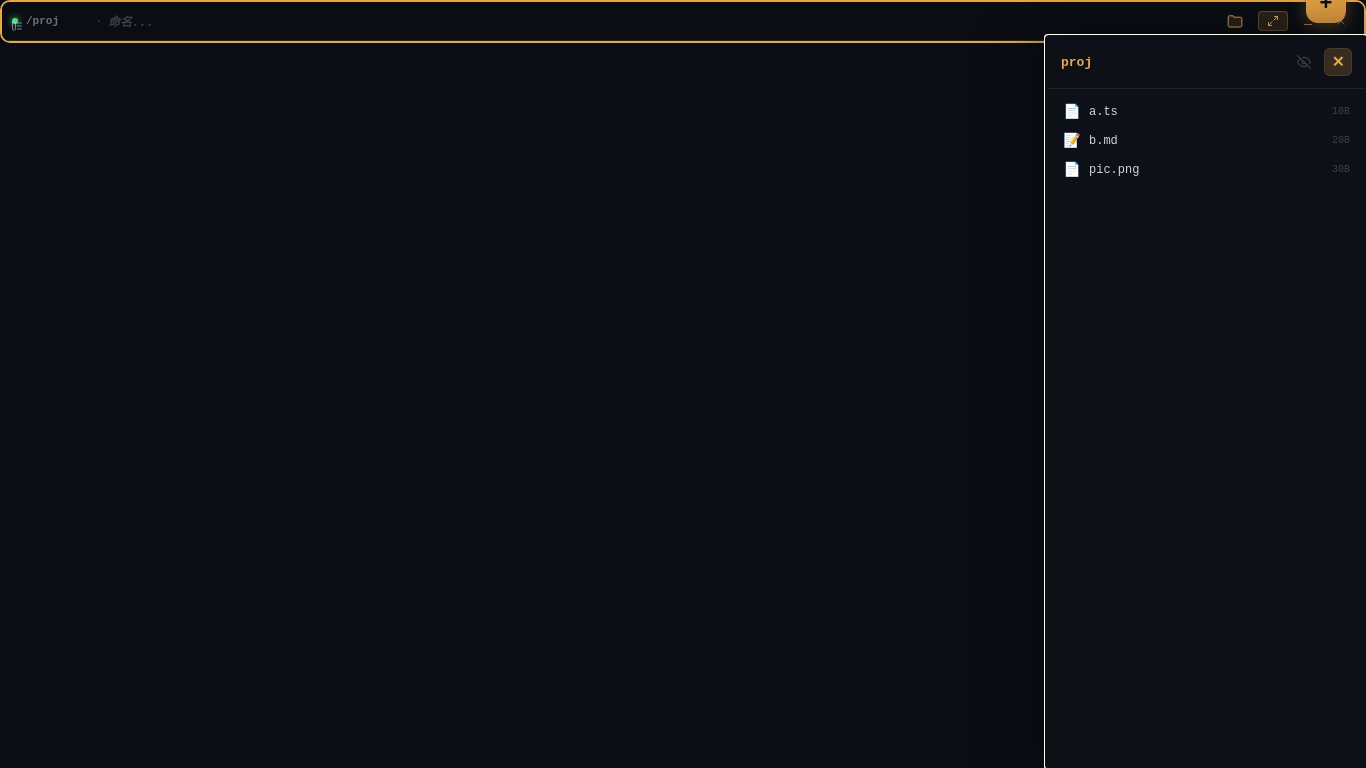
M6 批B tab 式文件视图 live › ⑦ 终端 tab 激活 → 内容区真洞 div[data-term-id]
Click the element showing "📄 a.ts 10B".
click(1072, 112)  # box [1063,104,1350,120]
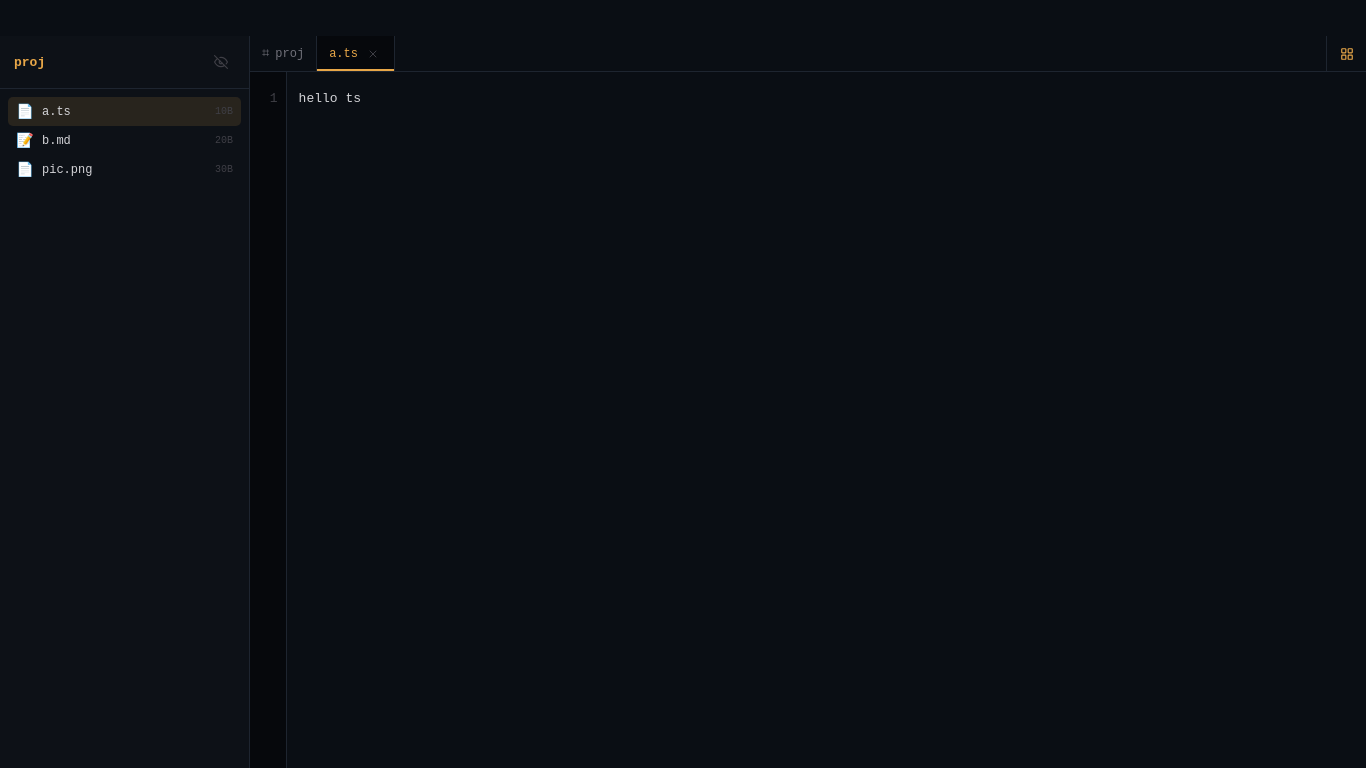
Click the element with class "file-tabs-view__tab--terminal".
click(284, 54)  # box [250,36,317,71]
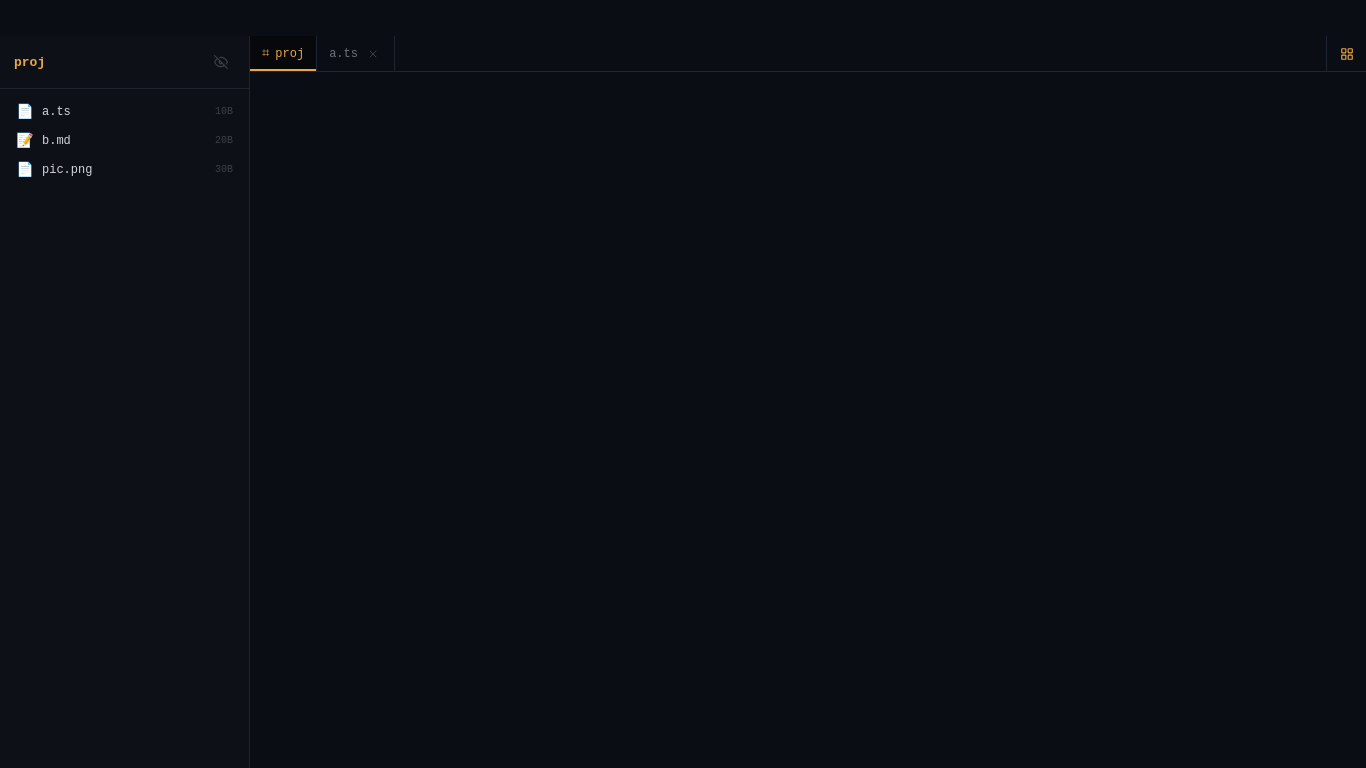
Check: the element with class "tile-term-hole" is shown
